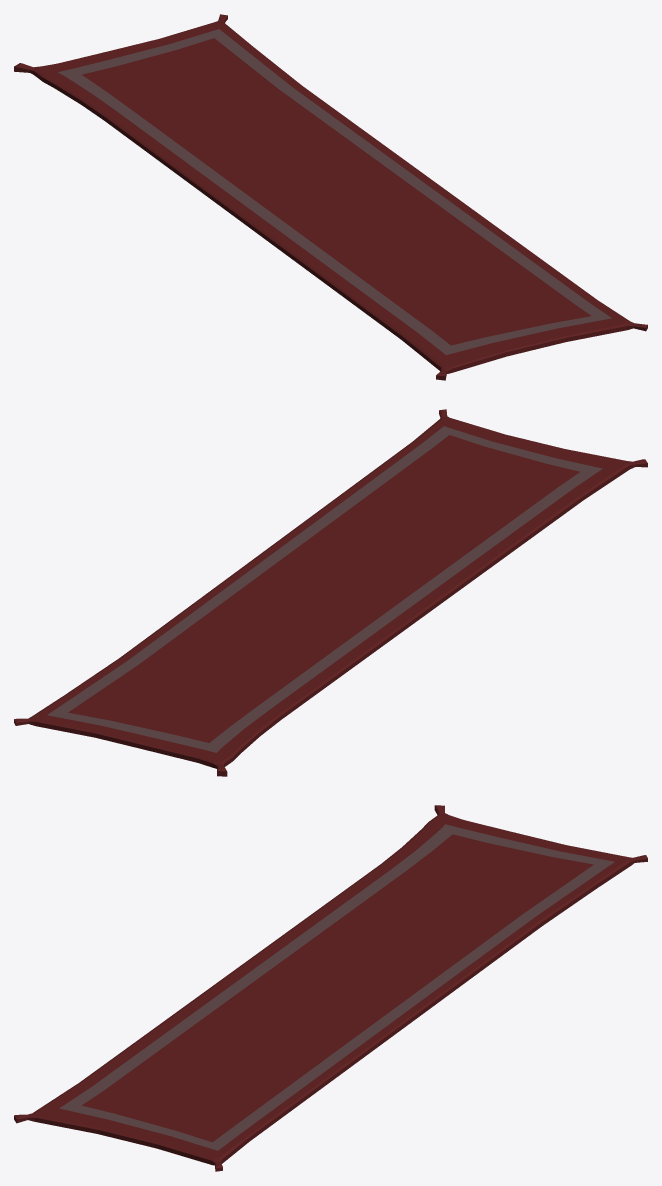
File: CarpetLong.fbx
3 renders of one model, top to bottom at view 1: azimuth 30°, elevation 25°; view 2: azimuth 150°, elevation 25°; view 3: azimuth 330°, elevation 25°, orthographic.
Visible parts, largest first — view 1: CarpetLong; view 2: CarpetLong; view 3: CarpetLong.
Boxes of the visible parts, bbox=[...] form: CarpetLong: bbox=[14, 14, 647, 380]; CarpetLong: bbox=[14, 409, 647, 776]; CarpetLong: bbox=[14, 805, 647, 1171].
Bounding box in the file's own units: 197 × 5.93 × 685.
